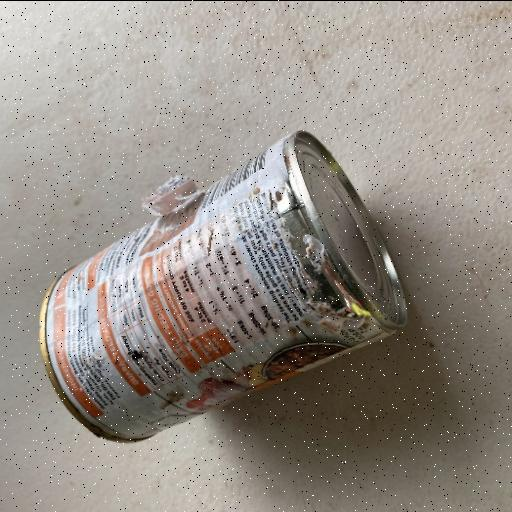Metal: (38, 128, 410, 444)
